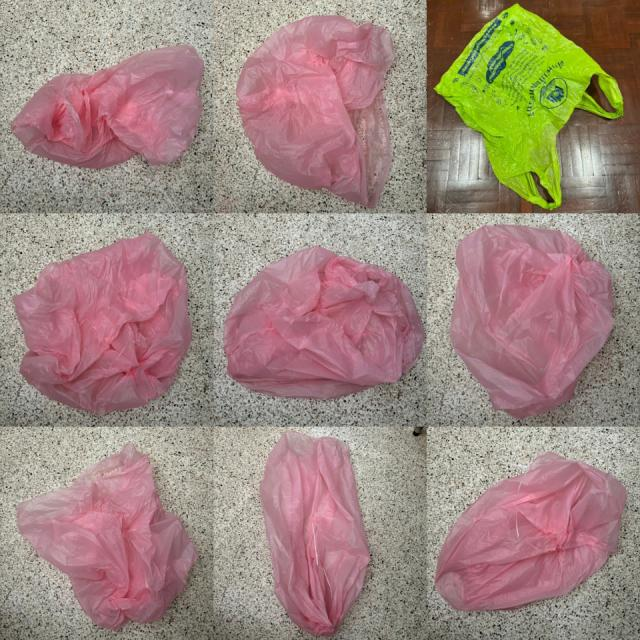Single-layer Plastic: (435, 4, 624, 209), (18, 442, 198, 630), (14, 232, 191, 413), (450, 225, 614, 419), (236, 16, 395, 208), (224, 246, 424, 398), (435, 451, 626, 610), (11, 45, 204, 168), (259, 431, 370, 636)
